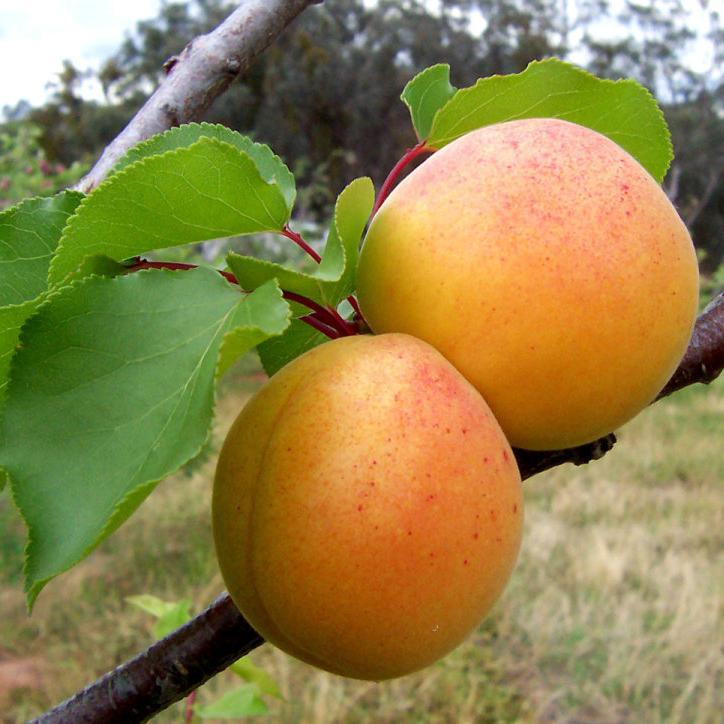apple: (354, 118, 700, 449), (207, 330, 523, 686)
